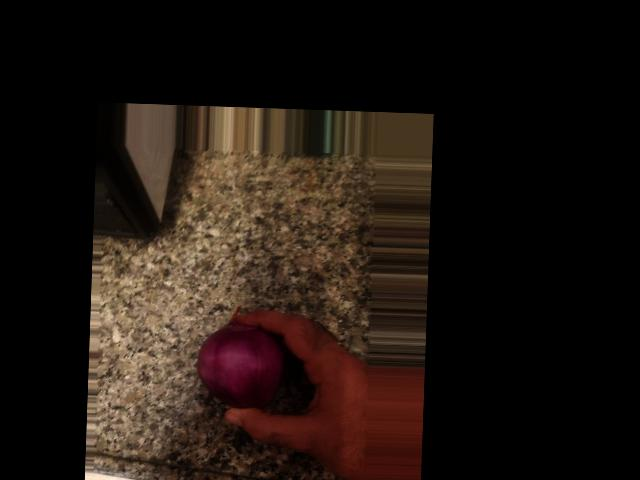onion: (108, 248, 202, 331)
